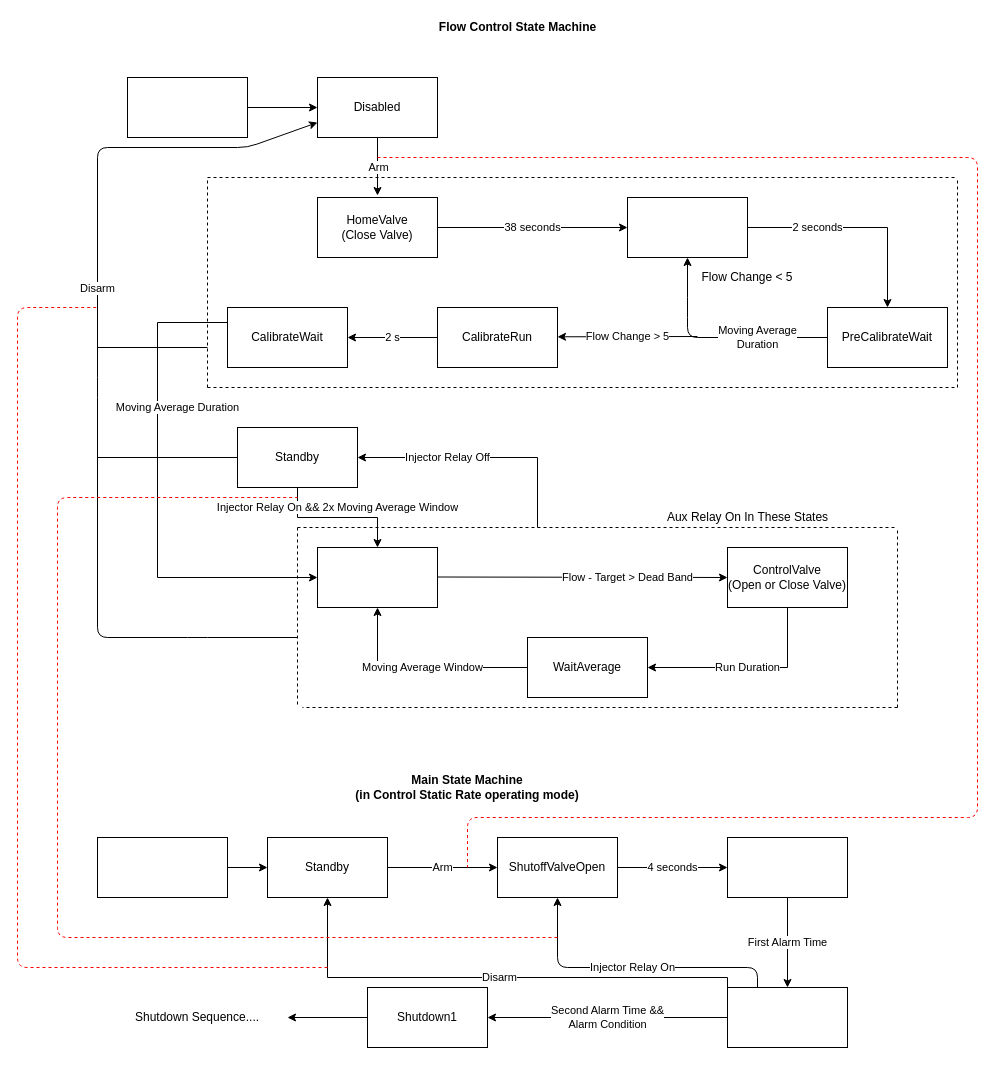
The diagram is 996 pixels wide and 1065 high, and some of its shapes have lost their labels. Each missing label, with the box of its shape:
CalculateDuration: (316, 546, 438, 608)
MonitoringFlow: (726, 986, 848, 1048)
MonitorOnly: (96, 836, 228, 898)
Null: (126, 76, 248, 138)
PreCalibrateRun (Open Valve): (626, 196, 748, 258)
PressurizeCalibrate: (726, 836, 848, 898)
